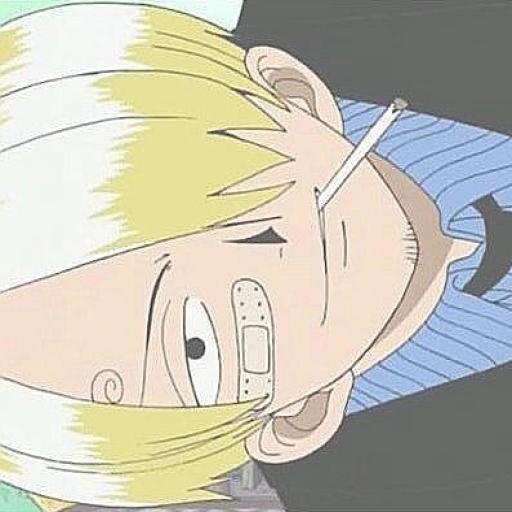sanji: (2, 0, 511, 508)
